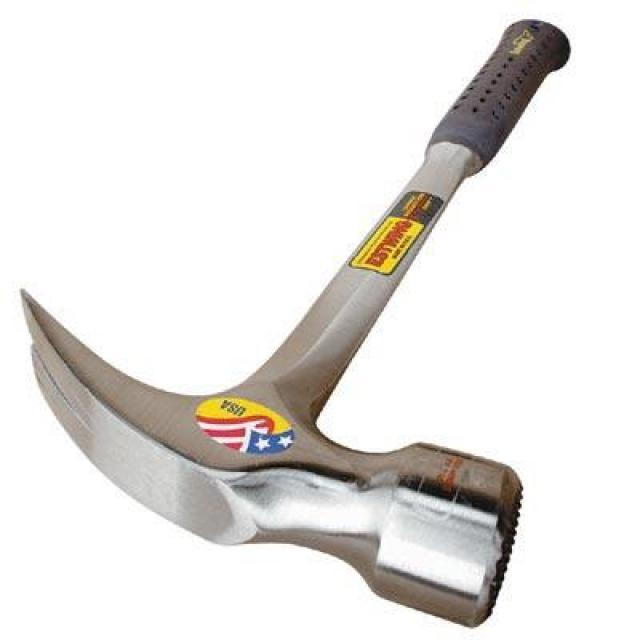hammer: (11, 11, 588, 634)
